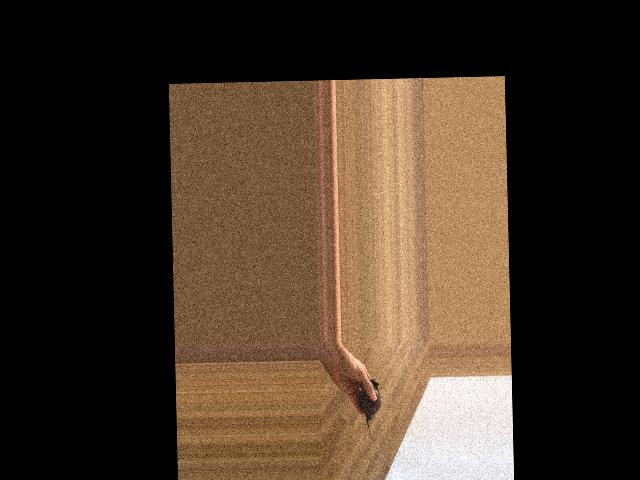beet: (358, 379, 381, 442)
